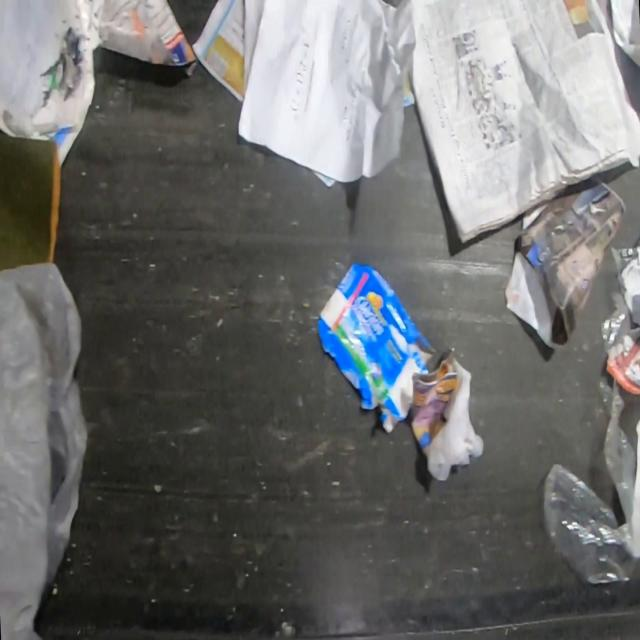cardboard: (318, 262, 435, 433), (0, 133, 62, 272)
soft_plastic: (0, 262, 89, 639), (542, 367, 640, 586), (600, 244, 639, 349)
